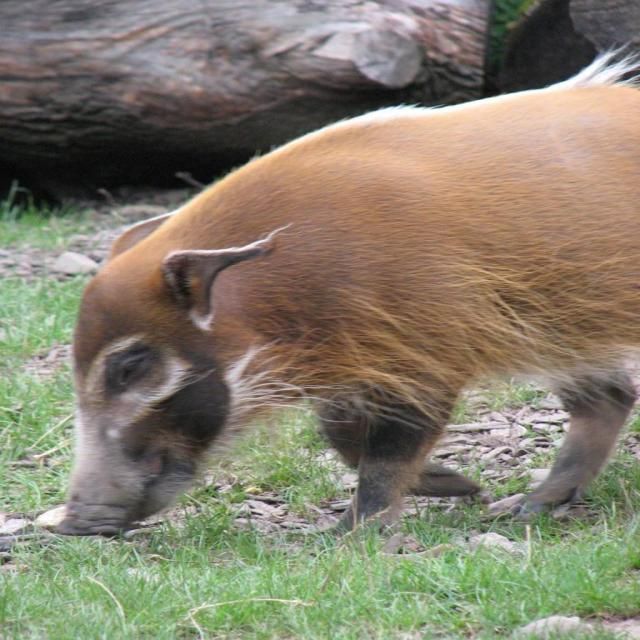Pig: (43, 36, 640, 543)
